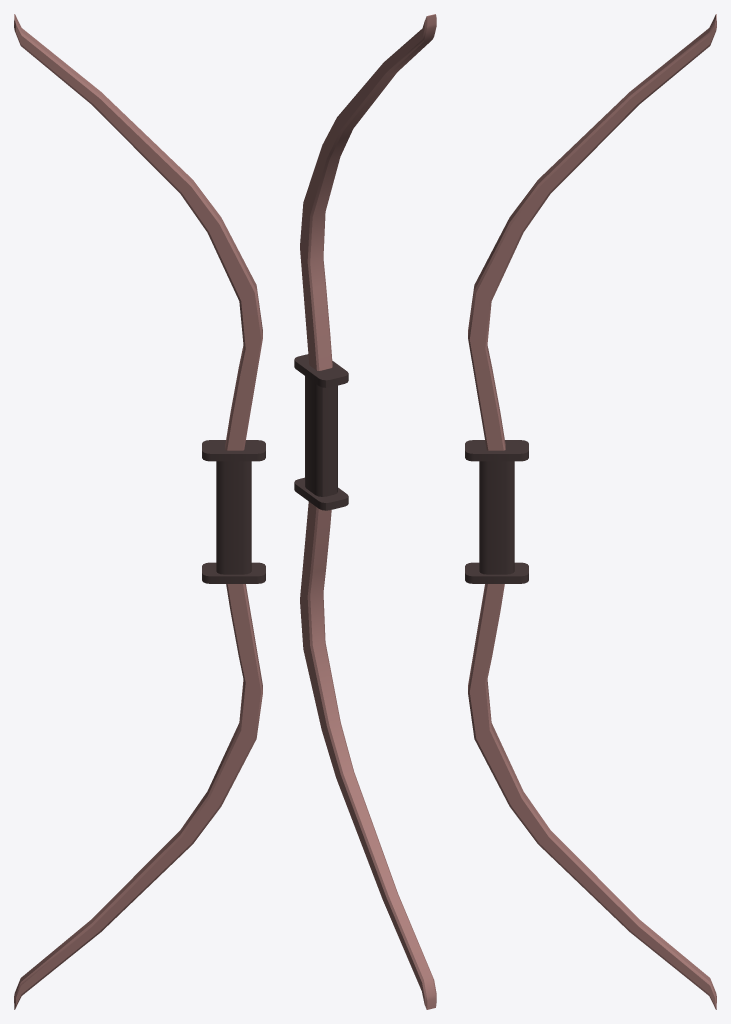
Rendered from bow.fbx.
3 renders of one model, left to right at view 1: azimuth 90°, elevation 25°; view 2: azimuth 210°, elevation 25°; view 3: azimuth 270°, elevation 25°, orthographic.
Visible parts, largest first — view 1: Cube; view 2: Cube; view 3: Cube.
Boxes of the visible parts, left/top/right/bottom form: Cube: left=14, top=14, right=265, bottom=1009; Cube: left=294, top=14, right=436, bottom=1009; Cube: left=465, top=14, right=716, bottom=1009.
Bounding box in the file's own units: 13.02 × 433 × 99.71.
